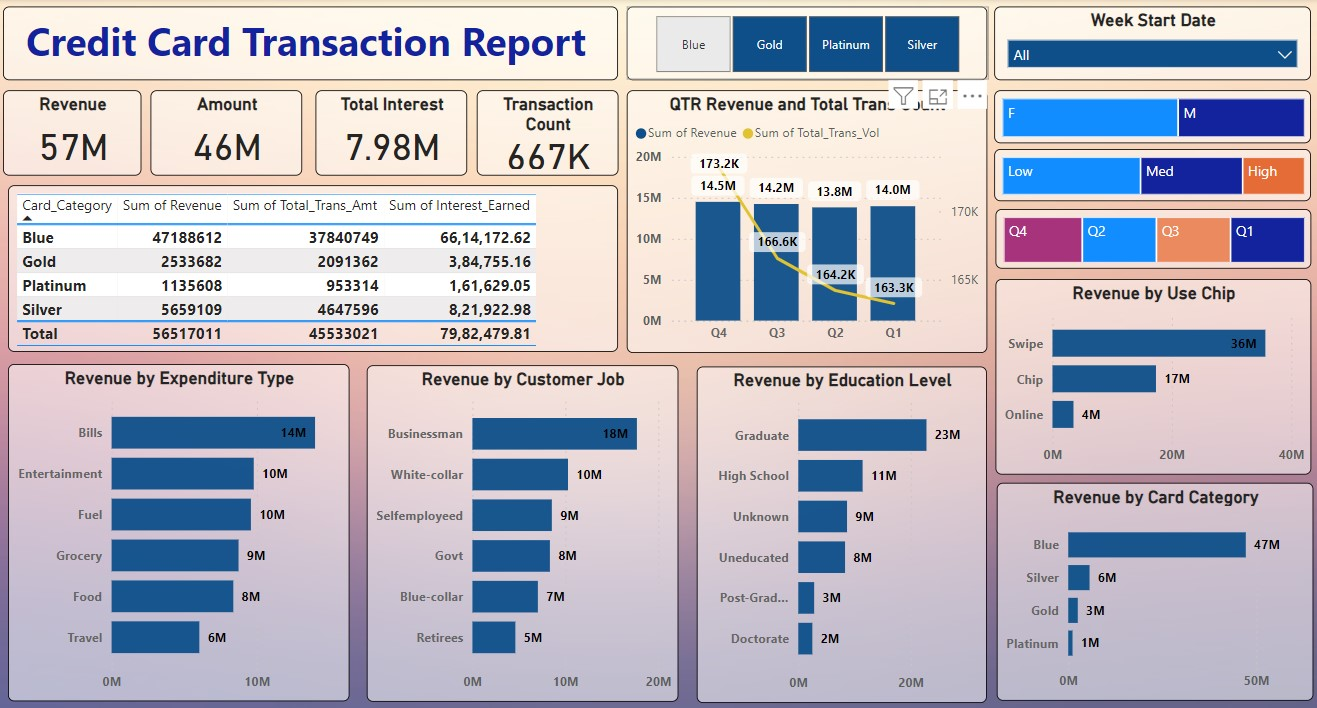

What the dashboard file says about the page in this screenshot:
{"tool":"powerbi","page":{"name":"Credit Card Transaction","canvas":[1280,720],"ordinal":0},"visuals":[{"type":"textbox","box":[10,6.7,593.3,71.1],"z":0},{"type":"lineStackedColumnComboChart","title":"QTR Revenue and Total Trans Count","fields":{"Category":["credit_card.Qtr"],"Y":["Sum(credit_card.Revenue)"],"Y2":["Sum(credit_card.Total_Trans_Vol)"]},"box":[612.2,87.8,347.8,253.3],"z":1000},{"type":"barChart","title":"Revenue by Expenditure Type","fields":{"Y":["Sum(credit_card.Revenue)"],"Category":["credit_card.Exp Type"]},"box":[14.5,352.3,329.4,325.7],"z":2000},{"type":"barChart","title":"Revenue by Education Level","fields":{"Y":["Sum(credit_card.Revenue)"],"Category":["customer.Education_Level"]},"box":[679.2,354.7,279.9,324.5],"z":3000},{"type":"barChart","title":"Revenue by Customer Job","fields":{"Y":["Sum(credit_card.Revenue)"],"Category":["customer.Customer_Job"]},"box":[360.7,353.5,300.4,324.5],"z":4000},{"type":"barChart","title":"Revenue by Card Category","fields":{"Y":["Sum(credit_card.Revenue)"],"Category":["credit_card.Card_Category"]},"box":[968.2,467.1,305.9,210.6],"z":5000},{"type":"barChart","title":"Revenue by Use Chip","fields":{"Y":["Sum(credit_card.Revenue)"],"Category":["credit_card.Use Chip"]},"box":[967.8,270,304.4,188.9],"z":6000},{"type":"tableEx","fields":{"Values":["credit_card.Card_Category","Sum(credit_card.Revenue)","Sum(credit_card.Total_Trans_Amt)","Sum(credit_card.Interest_Earned)"]},"box":[14.4,180,588.9,161.1],"z":7000},{"type":"card","title":"Revenue","fields":{"Values":["Sum(credit_card.Revenue)"]},"box":[10,87.8,133.3,82.2],"z":8000},{"type":"card","title":"Amount","fields":{"Values":["Sum(credit_card.Total_Trans_Amt)"]},"box":[152.2,87.8,146.7,82.2],"z":9000},{"type":"card","title":"Total Interest","fields":{"Values":["Sum(credit_card.Interest_Earned)"]},"box":[311.1,87.8,146.7,82.2],"z":10000},{"type":"card","title":"Transaction Count","fields":{"Values":["Sum(credit_card.Total_Trans_Vol)"]},"box":[466.7,87.8,136.7,82.2],"z":11000},{"type":"slicer","title":"Week Start Date","fields":{"Values":["credit_card.Week_Start_Date"]},"box":[966.7,6.7,305.6,71.1],"z":12000},{"type":"treemap","fields":{"Group":["credit_card.Qtr"],"Values":["CountNonNull(credit_card.Client_Num)"]},"box":[967.8,202.2,304.4,57.8],"z":13000},{"type":"treemap","fields":{"Values":["CountNonNull(credit_card.Client_Num)"],"Group":["customer.Gender"]},"box":[966.7,87.8,305.6,51.1],"z":14000},{"type":"slicer","fields":{"Values":["credit_card.Card_Category"]},"box":[612.2,6.7,347.8,71.1],"z":15000},{"type":"treemap","fields":{"Values":["CountNonNull(credit_card.Client_Num)"],"Group":["customer.Income Group"]},"box":[966.7,144.4,305.6,50],"z":16000}]}

Visuals, with their boxes on the page's 1280x720 design canvas (x1, y1, x2, y2). These are canvas units, not pixel positions in the 1317x708 screenshot, which may show the page scaled, cropped or inside an application window:
textbox: box(10, 7, 603, 78)
"QTR Revenue and Total Trans Count" lineStackedColumnComboChart: box(612, 88, 960, 341)
"Revenue by Expenditure Type" barChart: box(14, 352, 344, 678)
"Revenue by Education Level" barChart: box(679, 355, 959, 679)
"Revenue by Customer Job" barChart: box(361, 354, 661, 678)
"Revenue by Card Category" barChart: box(968, 467, 1274, 678)
"Revenue by Use Chip" barChart: box(968, 270, 1272, 459)
tableEx - credit_card.Card_Category x Sum(credit_card.Revenue): box(14, 180, 603, 341)
"Revenue" card: box(10, 88, 143, 170)
"Amount" card: box(152, 88, 299, 170)
"Total Interest" card: box(311, 88, 458, 170)
"Transaction Count" card: box(467, 88, 603, 170)
"Week Start Date" slicer: box(967, 7, 1272, 78)
treemap - credit_card.Qtr x CountNonNull(credit_card.Client_Num): box(968, 202, 1272, 260)
treemap - CountNonNull(credit_card.Client_Num) x customer.Gender: box(967, 88, 1272, 139)
slicer - credit_card.Card_Category: box(612, 7, 960, 78)
treemap - CountNonNull(credit_card.Client_Num) x customer.Income Group: box(967, 144, 1272, 194)
